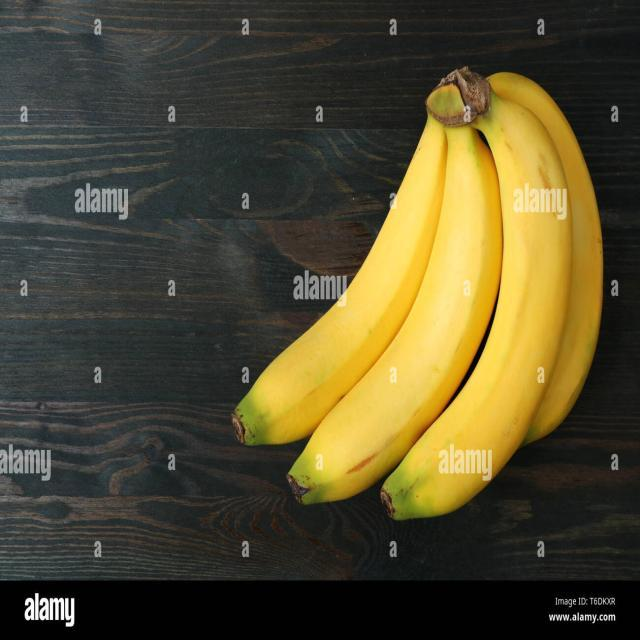banana: (233, 65, 606, 524)
